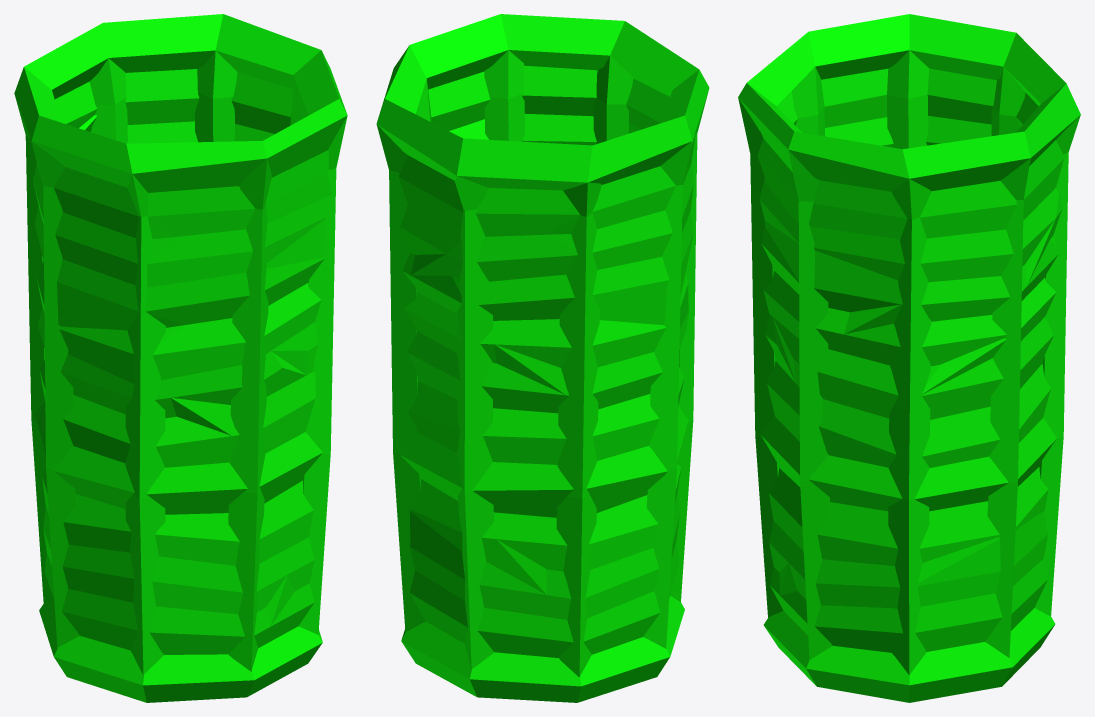
File: SM_Basket_Arrow_Fantasy.fbx
The picture shows the model from 3 angles, left to right: view 1: azimuth 30°, elevation 25°; view 2: azimuth 150°, elevation 25°; view 3: azimuth 270°, elevation 25°; orthographic projection.
Visible parts, largest first — view 1: basket-arrow-fantasy; view 2: basket-arrow-fantasy; view 3: basket-arrow-fantasy.
Part boxes in pixels (x1,y1,x2,y2): basket-arrow-fantasy: (14, 14, 347, 702); basket-arrow-fantasy: (376, 14, 709, 702); basket-arrow-fantasy: (738, 14, 1080, 702).
Size of the model in its own units: 0.3311 by 0.6016 by 0.3311.
